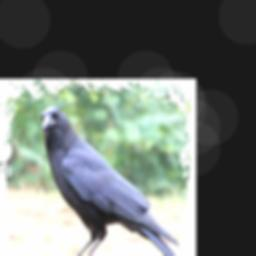Crow: (37, 104, 184, 256)
